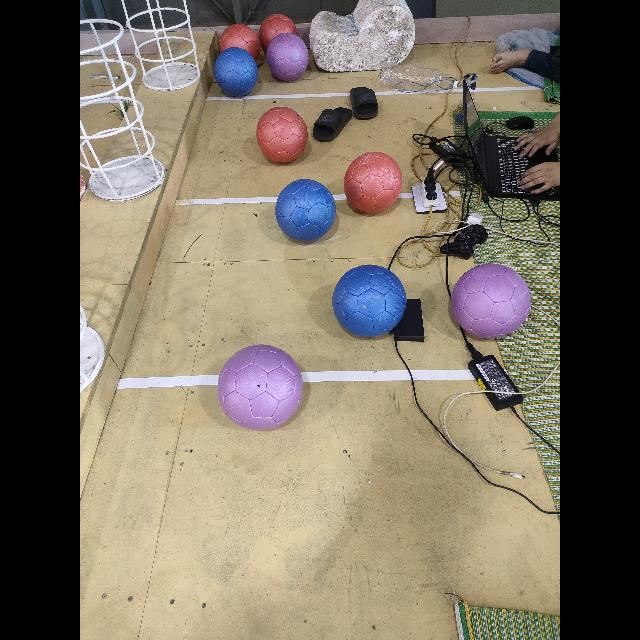B: (332, 265, 406, 337), (276, 178, 336, 242), (214, 46, 258, 98)
P: (218, 344, 302, 430), (452, 262, 530, 338), (266, 33, 308, 81)
R: (344, 152, 402, 214), (256, 107, 308, 163), (220, 24, 260, 62), (260, 14, 296, 52)
S: (80, 16, 166, 200), (123, 5, 207, 101)
